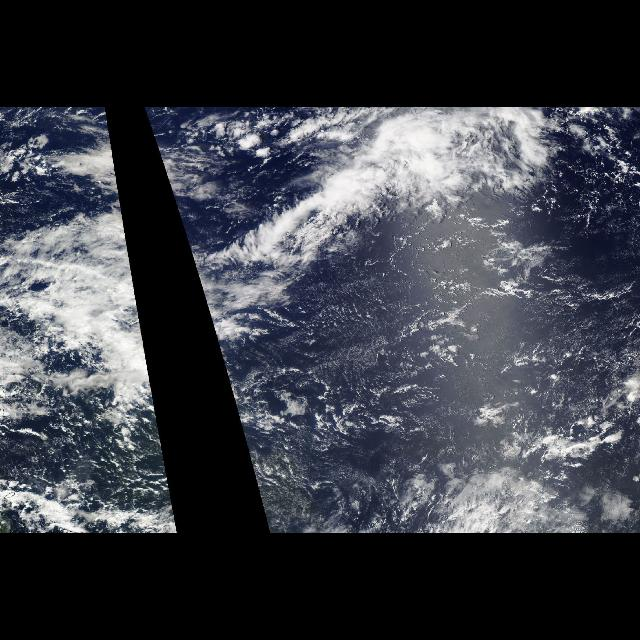Fish: (197, 154, 396, 328)
Gravel: (245, 250, 631, 528), (0, 355, 174, 533)
Sugar: (292, 253, 638, 423), (268, 431, 466, 534)
